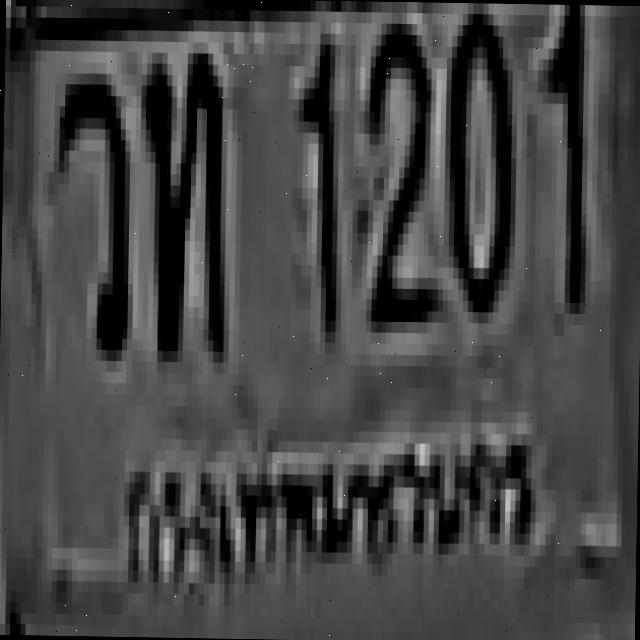0: (442, 2, 514, 301)
1: (292, 27, 338, 337), (538, 4, 584, 302)
2: (358, 6, 434, 316)
32ThorThaHan: (136, 41, 224, 351)
46WorWaen: (50, 62, 126, 350)
Bangkok: (106, 403, 543, 618)
